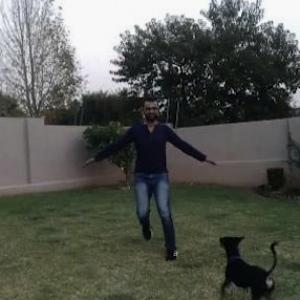land: (68, 70, 220, 275)
